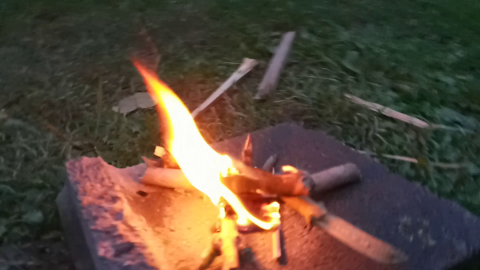fire: (117, 53, 287, 230)
